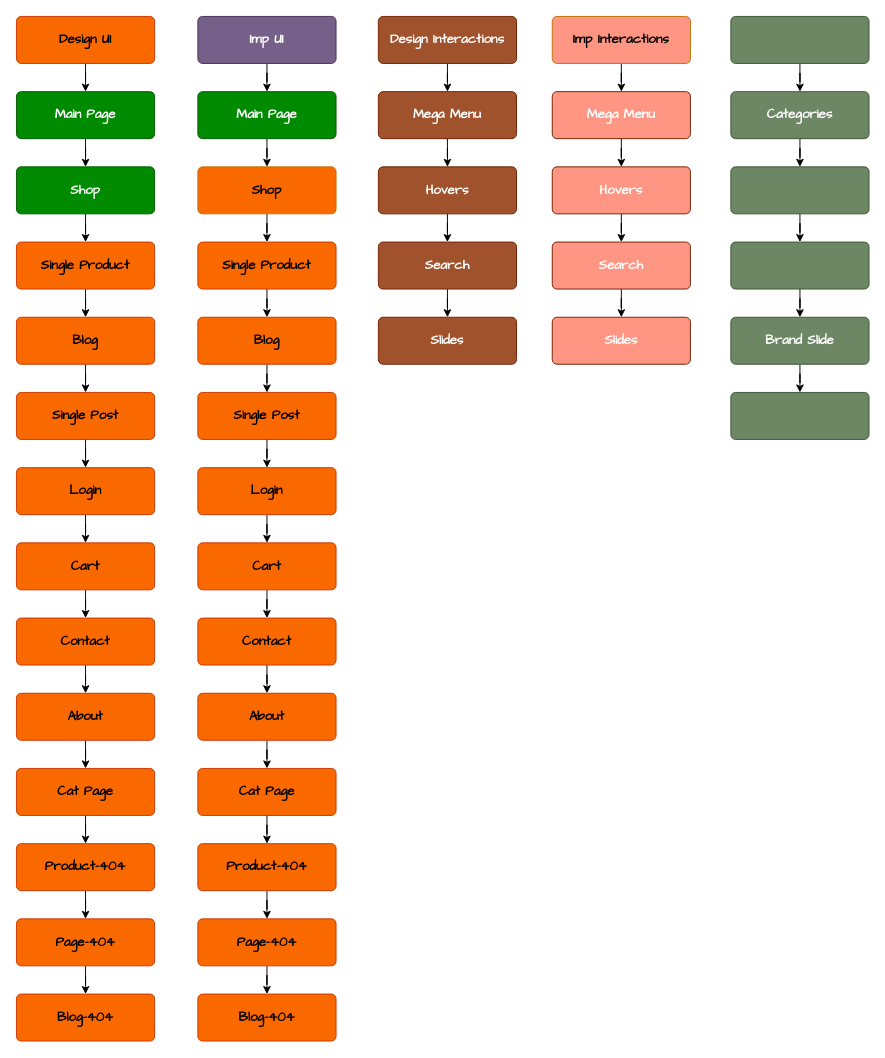
Image size: 885x1058. Some labels were removed from this diagram. Each missing label, with the centre of its shape:
"Animation" goes at point (799, 39).
"Blog Slide" goes at point (799, 415).
"Product Slide" goes at point (799, 265).
"SlideShow" goes at point (799, 190).
